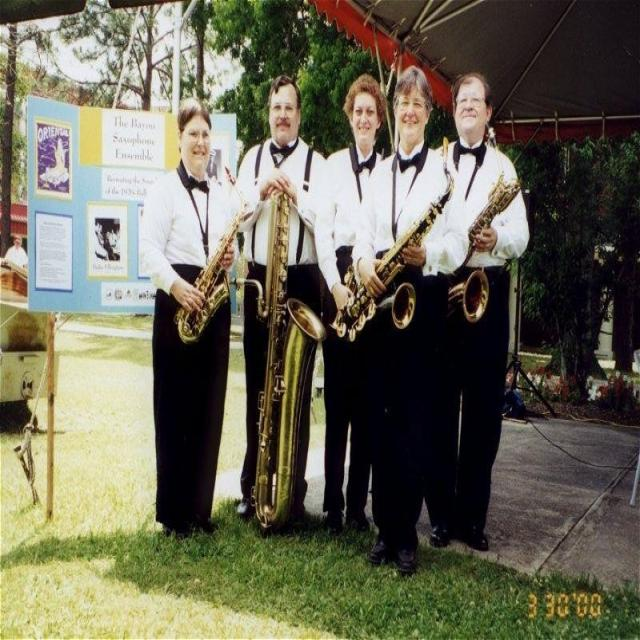saxophone: (326, 131, 460, 338), (446, 120, 522, 319), (174, 164, 252, 349)
